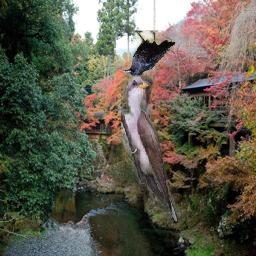Crow: (123, 30, 176, 76)
Cuckoo: (122, 75, 179, 223)
